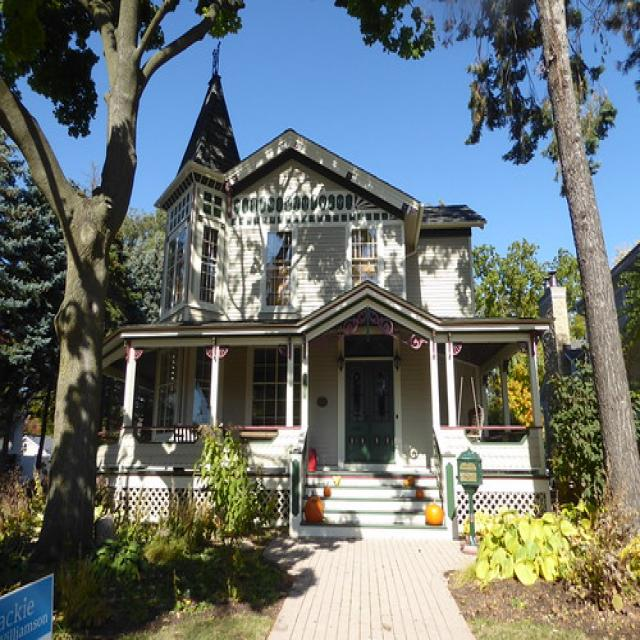Normal_building: (95, 78, 560, 544)
